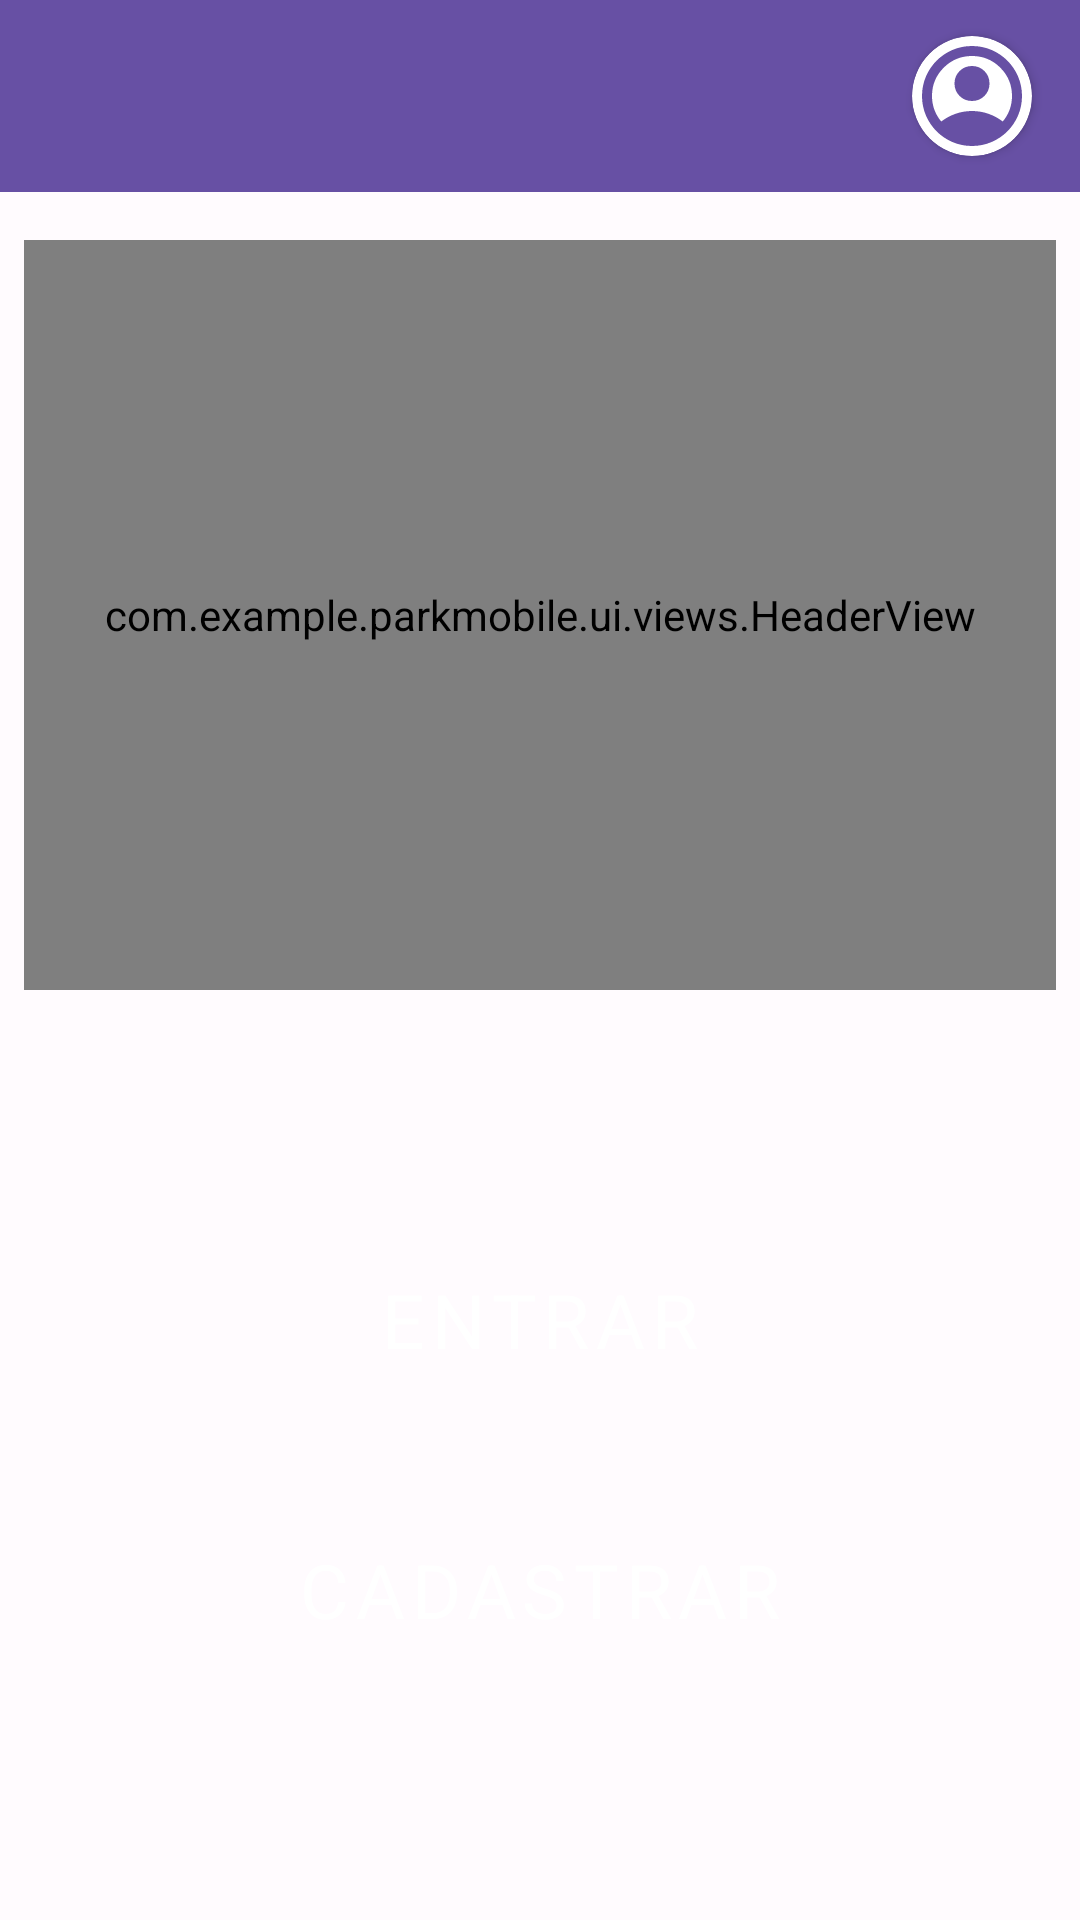

Point at icon controls on the screen. Image size 1080x1920, points as [x,y].
Foto do perfil: [972,96]
